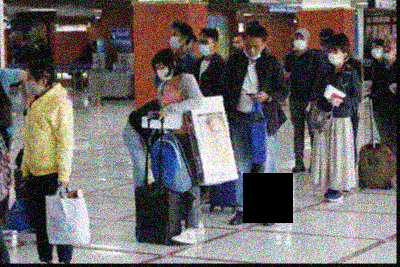mask_weared_incorrect: (245, 39, 262, 61), (383, 42, 396, 61)
with_mask: (24, 72, 40, 97), (198, 35, 214, 57), (155, 62, 172, 82), (292, 35, 308, 52), (328, 47, 342, 65), (170, 30, 182, 49), (371, 44, 384, 59)
without_mask: (231, 37, 245, 53)
